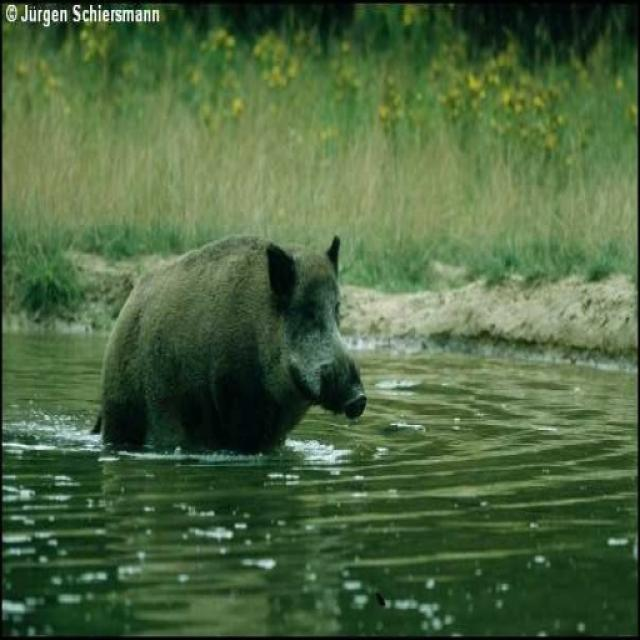pig: (63, 180, 383, 486)
